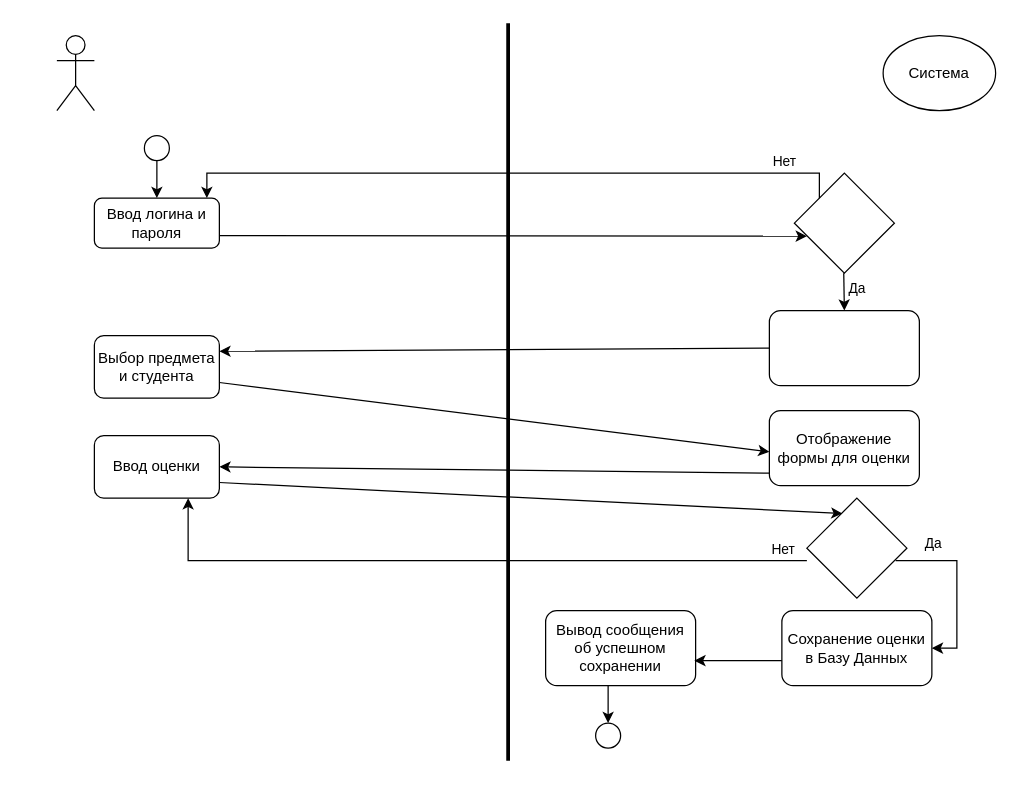
This 1018x785 diagram has some shape labels left out. Here are the shapes that lost their labels. From the top down, the centre of each, then its label:
[75,72]: Преподаватель
[843,222]: Данные верны?
[843,347]: Загрузка и вывод списка дисциплин
[856,547]: Оценка от 1 до 10?
